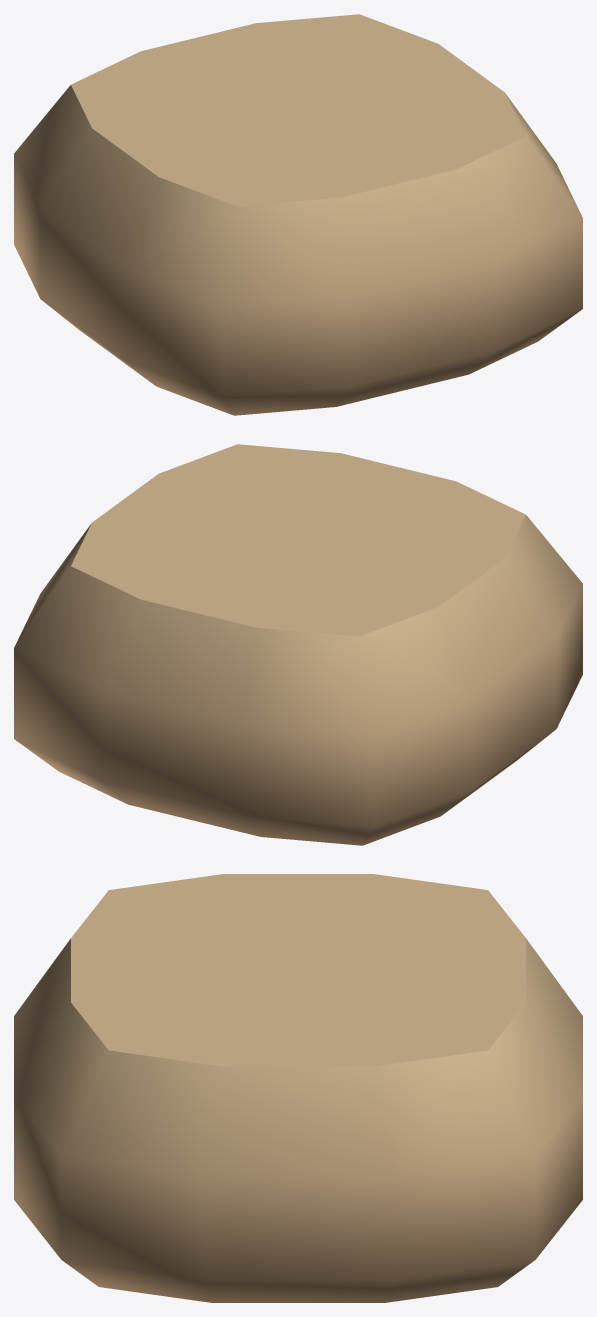
Rendered from pillow-round-laying.glb.
3 renders of one model, top to bottom at view 1: azimuth 30°, elevation 25°; view 2: azimuth 150°, elevation 25°; view 3: azimuth 270°, elevation 25°, orthographic. The views are drawn at different scales.
Parts seen in each view (by area): view 1: pillow-round-laying; view 2: pillow-round-laying; view 3: pillow-round-laying.
Part boxes in pixels (x1,y1,x2,y2): pillow-round-laying: (14,14,582,415); pillow-round-laying: (14,444,582,845); pillow-round-laying: (14,874,582,1302).
Bounding box in the file's own units: 0.3 × 0.1352 × 0.3.
